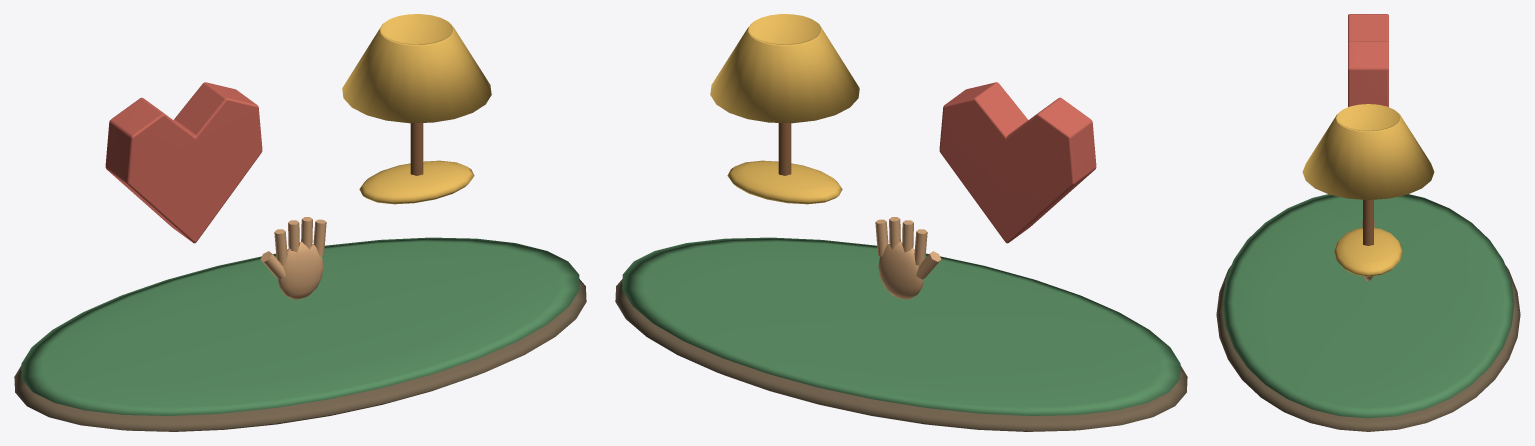
Rendered from complete-first-willing-heart-idea.glb.
The picture shows the model from 3 angles, left to right: view 1: azimuth 30°, elevation 25°; view 2: azimuth 150°, elevation 25°; view 3: azimuth 270°, elevation 25°; orthographic projection. The views are drawn at different scales.
Visible parts, largest first — view 1: complete-first-willing-heart-idea_surface_01, complete-first-willing-heart-idea_surface_02, complete-first-willing-heart-idea_surface_03, complete-first-willing-heart-idea_surface_00, complete-first-willing-heart-idea_surface_05, complete-first-willing-heart-idea_surface_04; view 2: complete-first-willing-heart-idea_surface_01, complete-first-willing-heart-idea_surface_02, complete-first-willing-heart-idea_surface_03, complete-first-willing-heart-idea_surface_00, complete-first-willing-heart-idea_surface_05, complete-first-willing-heart-idea_surface_04; view 3: complete-first-willing-heart-idea_surface_01, complete-first-willing-heart-idea_surface_03, complete-first-willing-heart-idea_surface_00, complete-first-willing-heart-idea_surface_02, complete-first-willing-heart-idea_surface_04.
Part boxes in pixels (x1,y1,x2,y2): complete-first-willing-heart-idea_surface_01: (21, 237, 579, 415); complete-first-willing-heart-idea_surface_02: (105, 82, 262, 243); complete-first-willing-heart-idea_surface_03: (342, 14, 491, 204); complete-first-willing-heart-idea_surface_00: (14, 279, 586, 431); complete-first-willing-heart-idea_surface_05: (260, 217, 326, 299); complete-first-willing-heart-idea_surface_04: (410, 123, 423, 175); complete-first-willing-heart-idea_surface_01: (622, 237, 1180, 415); complete-first-willing-heart-idea_surface_02: (939, 82, 1096, 243); complete-first-willing-heart-idea_surface_03: (710, 14, 859, 204); complete-first-willing-heart-idea_surface_00: (615, 279, 1187, 431); complete-first-willing-heart-idea_surface_05: (875, 217, 941, 299); complete-first-willing-heart-idea_surface_04: (778, 123, 791, 175); complete-first-willing-heart-idea_surface_01: (1222, 194, 1514, 418); complete-first-willing-heart-idea_surface_03: (1302, 104, 1434, 276); complete-first-willing-heart-idea_surface_00: (1216, 265, 1520, 431); complete-first-willing-heart-idea_surface_02: (1348, 14, 1388, 106); complete-first-willing-heart-idea_surface_04: (1363, 199, 1373, 245).
Bounding box in the file's own units: 4.56 × 2.37 × 2.5.
